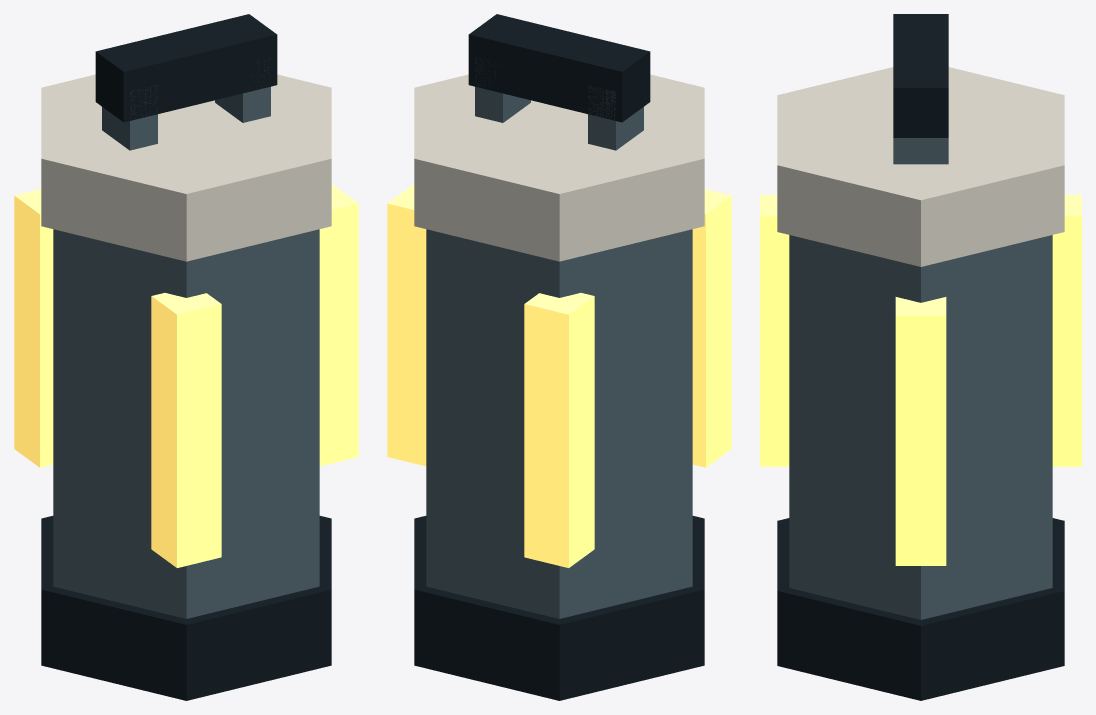
Rendered from battery.glb.
3 renders of one model, left to right at view 1: azimuth 30°, elevation 25°; view 2: azimuth 150°, elevation 25°; view 3: azimuth 270°, elevation 25°, orthographic.
Parts seen in each view (by area): view 1: battery; view 2: battery; view 3: battery.
Boxes of the visible parts, x1,y1,x2,y2 form: battery: (14, 14, 358, 700); battery: (387, 14, 731, 700); battery: (760, 14, 1081, 700).
Bounding box in the file's own units: 0.3775 × 0.695 × 0.3494.
